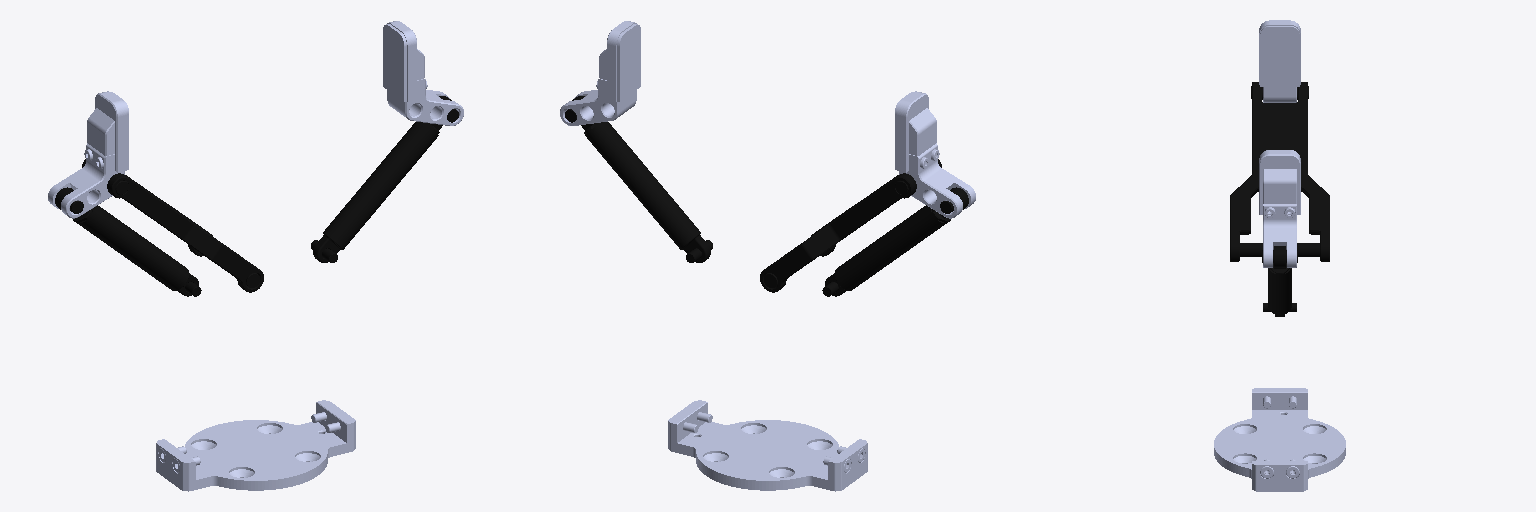
robot.urdf — dh_ag145_gripper:
<?xml version="1.0" ?>
<!-- =================================================================================== -->
<!-- |    This document was autogenerated by xacro from dh_ag145.urdf.xacro            | -->
<!-- |    EDITING THIS FILE BY HAND IS NOT RECOMMENDED                                 | -->
<!-- =================================================================================== -->
<robot name="dh_ag145_gripper">
  <link name="base_link">
    <visual>
      <origin rpy="1.57079 0 3.14159" xyz="0 0 0"/>
      <geometry>
        <mesh filename="package://dh_ag145_description/meshes/base_link.stl" scale="0.001 0.001 0.001"/>
      </geometry>
      <material name="blue_grey">
        <color rgba="0.792 0.819 0.933 1"/>
      </material>
    </visual>
    <collision>
      <origin rpy="1.57079 0 3.14159" xyz="0 0 0"/>
      <geometry>
        <mesh filename="package://dh_ag145_description/meshes/base_link.stl" scale="0.001 0.001 0.001"/>
      </geometry>
    </collision>
  </link>
  <link name="body_link">
    <visual>
      <origin rpy="1.57079 0 3.14159" xyz="0.00389 0.00075 0.05048"/>
      <geometry>
        <mesh filename="package://dh_ag145_description/meshes/body.stl" scale="0.001 0.001 0.001"/>
      </geometry>
      <material name="dark_grey">
        <color rgba="0.1 0.1 0.1 1"/>
      </material>
    </visual>
    <collision>
      <origin rpy="1.57079 0 3.14159" xyz="0.00389 0.00075 0.05048"/>
      <geometry>
        <mesh filename="package://dh_ag145_description/meshes/body.stl" scale="0.001 0.001 0.001"/>
      </geometry>
    </collision>
  </link>
  <link name="left_outer_knuckle">
    <visual>
      <origin rpy="1.57079 0 3.14159" xyz="0.03981 0.00075 -0.04785"/>
      <geometry>
        <mesh filename="package://dh_ag145_description/meshes/left_outer_knuckle.stl" scale="0.001 0.001 0.001"/>
      </geometry>
      <material name="dark_grey">
        <color rgba="0.1 0.1 0.1 1"/>
      </material>
    </visual>
    <collision>
      <origin rpy="1.57079 0 3.14159" xyz="0.03981 0.00075 -0.04785"/>
      <geometry>
        <mesh filename="package://dh_ag145_description/meshes/left_outer_knuckle.stl" scale="0.001 0.001 0.001"/>
      </geometry>
    </collision>
  </link>
  <link name="left_inner_knuckle">
    <visual>
      <origin rpy="1.57079 0.83872 -3.14159" xyz="-0.01432 0 0.01004"/>
      <geometry>
        <mesh filename="package://dh_ag145_description/meshes/left_inner_knuckle.stl" scale="0.001 0.001 0.001"/>
      </geometry>
      <material name="dark_grey">
        <color rgba="0.1 0.1 0.1 1"/>
      </material>
    </visual>
    <collision>
      <origin rpy="1.57079 0.83872 -3.14159" xyz="-0.01432 0 0.01004"/>
      <geometry>
        <mesh filename="package://dh_ag145_description/meshes/left_inner_knuckle.stl" scale="0.001 0.001 0.001"/>
      </geometry>
    </collision>
  </link>
  <link name="left_finger">
    <visual>
      <origin rpy="1.57079 0 3.14159" xyz="0.01917854988 0 0.00752444316"/>
      <geometry>
        <mesh filename="package://dh_ag145_description/meshes/left_finger.stl" scale="0.001 0.001 0.001"/>
      </geometry>
      <material name="blue_grey">
        <color rgba="0.792 0.819 0.933 1"/>
      </material>
    </visual>
    <collision>
      <origin rpy="1.57079 0 3.14159" xyz="0.01917854988 0 0.00752444316"/>
      <geometry>
        <mesh filename="package://dh_ag145_description/meshes/left_finger.stl" scale="0.001 0.001 0.001"/>
      </geometry>
    </collision>
  </link>
  <link name="right_outer_knuckle">
    <visual>
      <origin rpy="1.57079 0 3.14159" xyz="-0.03203 0.00075 -0.04785"/>
      <geometry>
        <mesh filename="package://dh_ag145_description/meshes/right_outer_knuckle.stl" scale="0.001 0.001 0.001"/>
      </geometry>
      <material name="dark_grey">
        <color rgba="0.1 0.1 0.1 1"/>
      </material>
    </visual>
    <collision>
      <origin rpy="1.57079 0 3.14159" xyz="-0.03203 0.00075 -0.04785"/>
      <geometry>
        <mesh filename="package://dh_ag145_description/meshes/right_outer_knuckle.stl" scale="0.001 0.001 0.001"/>
      </geometry>
    </collision>
  </link>
  <link name="right_inner_knuckle">
    <visual>
      <origin rpy="1.57079 0.83872 0" xyz="0.01432 0 0.01004"/>
      <geometry>
        <mesh filename="package://dh_ag145_description/meshes/right_inner_knuckle.stl" scale="0.001 0.001 0.001"/>
      </geometry>
      <material name="dark_grey">
        <color rgba="0.1 0.1 0.1 1"/>
      </material>
    </visual>
    <collision>
      <origin rpy="1.57079 0.83872 0" xyz="0.01432 0 0.01004"/>
      <geometry>
        <mesh filename="package://dh_ag145_description/meshes/right_inner_knuckle.stl" scale="0.001 0.001 0.001"/>
      </geometry>
    </collision>
  </link>
  <link name="right_finger">
    <visual>
      <origin rpy="1.57079 0 0" xyz="-0.01917854988 0 0.00752444316"/>
      <geometry>
        <mesh filename="package://dh_ag145_description/meshes/right_finger.stl" scale="0.001 0.001 0.001"/>
      </geometry>
      <material name="blue_grey">
        <color rgba="0.792 0.819 0.933 1"/>
      </material>
    </visual>
    <collision>
      <origin rpy="1.57079 0 0" xyz="-0.01917854988 0 0.00752444316"/>
      <geometry>
        <mesh filename="package://dh_ag145_description/meshes/right_finger.stl" scale="0.001 0.001 0.001"/>
      </geometry>
    </collision>
  </link>
  <joint name="base_to_body" type="fixed">
    <parent link="base_link"/>
    <child link="body_link"/>
    <origin rpy="0 0 0" xyz="0 0 0.0"/>
  </joint>
  <joint name="left_outer_knuckle_joint" type="revolute">
    <parent link="body_link"/>
    <child link="left_outer_knuckle"/>
    <origin rpy="0 0 0" xyz="-0.03592 0.0 0.09834"/>
    <axis xyz="0 1 0"/>
    <limit effort="100" lower="0.0" upper="0.93" velocity="0.1"/>
  </joint>
  <joint name="left_inner_knuckle_joint" type="revolute">
    <parent link="body_link"/>
    <child link="left_inner_knuckle"/>
    <origin rpy="0 0 0" xyz="-0.01674 0.0 0.10586"/>
    <axis xyz="0 1 0"/>
    <limit effort="100" lower="0.0" upper="0.93" velocity="0.1"/>
    <mimic joint="left_outer_knuckle_joint" multiplier="1" offset="0"/>
  </joint>
  <joint name="left_finger_joint" type="revolute">
    <parent link="left_outer_knuckle"/>
    <child link="left_finger"/>
    <origin rpy="0 0 0" xyz="-0.06400 0.0 0.05818"/>
    <axis xyz="0 1 0"/>
    <limit effort="100" lower="-0.93" upper="0" velocity="0.1"/>
    <mimic joint="left_outer_knuckle_joint" multiplier="-1" offset="0"/>
  </joint>
  <joint name="right_outer_knuckle_joint" type="revolute">
    <parent link="body_link"/>
    <child link="right_outer_knuckle"/>
    <origin rpy="0 0 0" xyz="0.03592 0.0 0.09834"/>
    <axis xyz="0 1 0"/>
    <limit effort="100" lower="-0.93" upper="0" velocity="0.1"/>
    <mimic joint="left_outer_knuckle_joint" multiplier="-1" offset="0"/>
  </joint>
  <joint name="right_inner_knuckle_joint" type="revolute">
    <parent link="body_link"/>
    <child link="right_inner_knuckle"/>
    <origin rpy="0 0 0" xyz="0.01674 0.0 0.10586"/>
    <axis xyz="0 1 0"/>
    <limit effort="100" lower="-0.93" upper="0" velocity="0.1"/>
    <mimic joint="left_outer_knuckle_joint" multiplier="-1" offset="0"/>
  </joint>
  <joint name="right_finger_joint" type="revolute">
    <parent link="right_outer_knuckle"/>
    <child link="right_finger"/>
    <origin rpy="0 0 0" xyz="0.06400 0.0 0.05818"/>
    <axis xyz="0 1 0"/>
    <limit effort="100" lower="0" upper="0.93" velocity="0.1"/>
    <mimic joint="left_outer_knuckle_joint" multiplier="1" offset="0"/>
  </joint>
  <joint name="gripper_base_joint" type="fixed">
    <parent link="world"/>
    <child link="base_link"/>
    <origin rpy="0 0 0" xyz="0 0 0.1"/>
  </joint>
  <ros2_control name="dh_ag145_gripper" type="system">
    <hardware>
      <!-- Real hardware -->
      <plugin>dh_gripper_driver/DHGripperHardwareInterface</plugin>
      <!-- Parameters for the DHGripperHardwareInterface -->
      <!-- <param name="gripper_closed_position">0.93</param>
                    <param name="gripper_connect_port">${com_port}</param>
                    <param name="gripper_id">1</param>
                    <param name="gripper_model">ag145_MB</param>
                    <param name="gripper_baudrate">115200</param>
                    <param name="gripper_speed_multiplier">1.0</param>
                    <param name="gripper_force_multiplier">0.5</param> -->
      <!-- fully closed joint position when commanding left_outer_knuckle_joint -->
      <param name="gripper_closed_position">0.93</param>
      <param name="COM_port">/dev/ttyUSB0</param>
      <param name="gripper_speed_multiplier">1.0</param>
      <param name="gripper_force_multiplier">0.5</param>
    </hardware>
    <!-- Joint interfaces -->
    <joint name="left_outer_knuckle_joint">
      <command_interface name="position">
        <param name="min">0</param>
        <param name="max">0.93</param>
      </command_interface>
      <state_interface name="position">
        <param name="initial_value">0</param>
      </state_interface>
      <state_interface name="velocity"/>
    </joint>
  </ros2_control>
  <link name="world"/>
</robot>

--- Facts derived from the render (not from the file) ---
The picture shows the robot from 3 angles, left to right: view 1: azimuth 30°, elevation 25°; view 2: azimuth 150°, elevation 25°; view 3: azimuth 270°, elevation 25°; orthographic projection.
Model dh_ag145_gripper with 9 links and 8 joints (6 revolute, 2 fixed), rooted at world, posed every joint at zero.
Visible links, largest first — view 1: base_link, left_finger, right_outer_knuckle, right_finger, left_inner_knuckle, left_outer_knuckle; view 2: base_link, left_finger, right_outer_knuckle, right_finger, left_inner_knuckle, left_outer_knuckle; view 3: base_link, left_inner_knuckle, right_finger, left_finger, right_outer_knuckle.
Boxes of the visible links, x1,y1,x2,y2 form: base_link: (156,400,355,491); left_finger: (48,91,128,218); right_outer_knuckle: (311,96,458,262); right_finger: (383,21,463,125); left_inner_knuckle: (82,159,263,292); left_outer_knuckle: (55,187,201,296); base_link: (668,400,867,491); left_finger: (895,91,975,218); right_outer_knuckle: (565,96,712,262); right_finger: (560,21,640,125); left_inner_knuckle: (760,159,941,292); left_outer_knuckle: (822,187,968,296); base_link: (1214,388,1345,491); left_inner_knuckle: (1230,82,1329,261); right_finger: (1259,150,1300,267); left_finger: (1259,20,1300,102); right_outer_knuckle: (1262,246,1297,316).
Size in the robot's own frame: 0.2138 by 0.067 by 0.2078 metres.
Meshes: 8 distinct files referenced, 6 mesh visuals loaded (6 binary STL); not drawn: 2 (reference not matched to a file when rendering).
